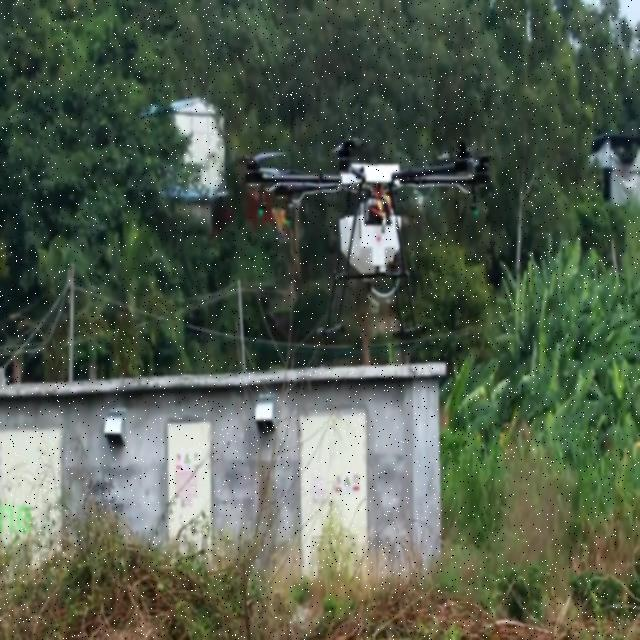UAV: (235, 139, 493, 341)
